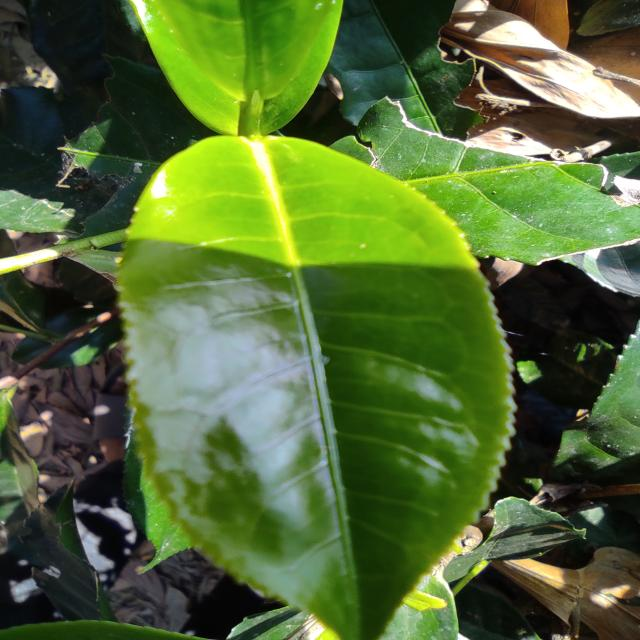Category B 2-4 days: (116, 132, 523, 640)
